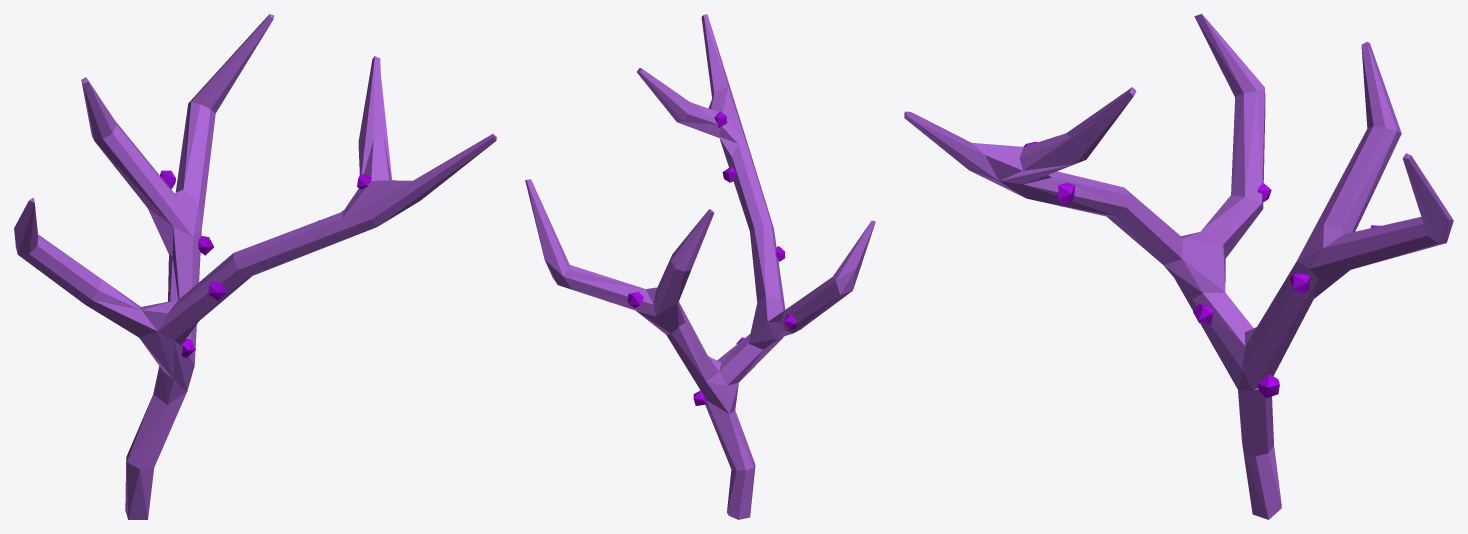
The model's file is Tree 1.fbx.
3 views of the same model, side by side, from view 1: azimuth 30°, elevation 25°; view 2: azimuth 150°, elevation 25°; view 3: azimuth 270°, elevation 25° (orthographic). The views are drawn at different scales.
Parts seen in each view (by area): view 1: Plane; view 2: Plane; view 3: Plane.
Boxes of the visible parts, box(x1,y1,x2,y2) form: Plane: box(14, 14, 496, 519); Plane: box(525, 14, 875, 519); Plane: box(904, 14, 1453, 519).
Bounding box in the file's own units: 555 × 719 × 682.
